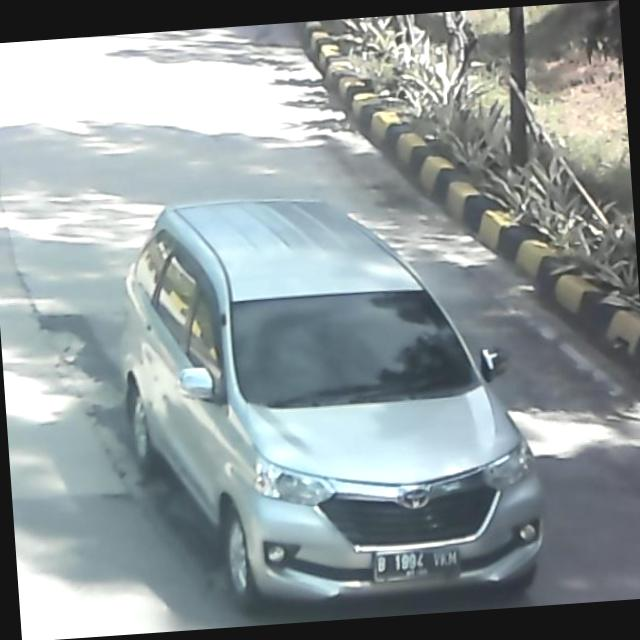plate: (368, 542, 468, 584)
